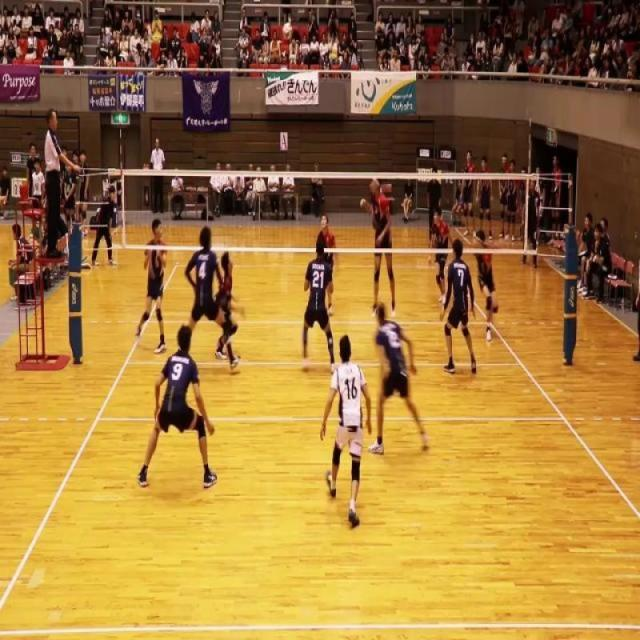volleyball: (282, 22, 293, 40)
